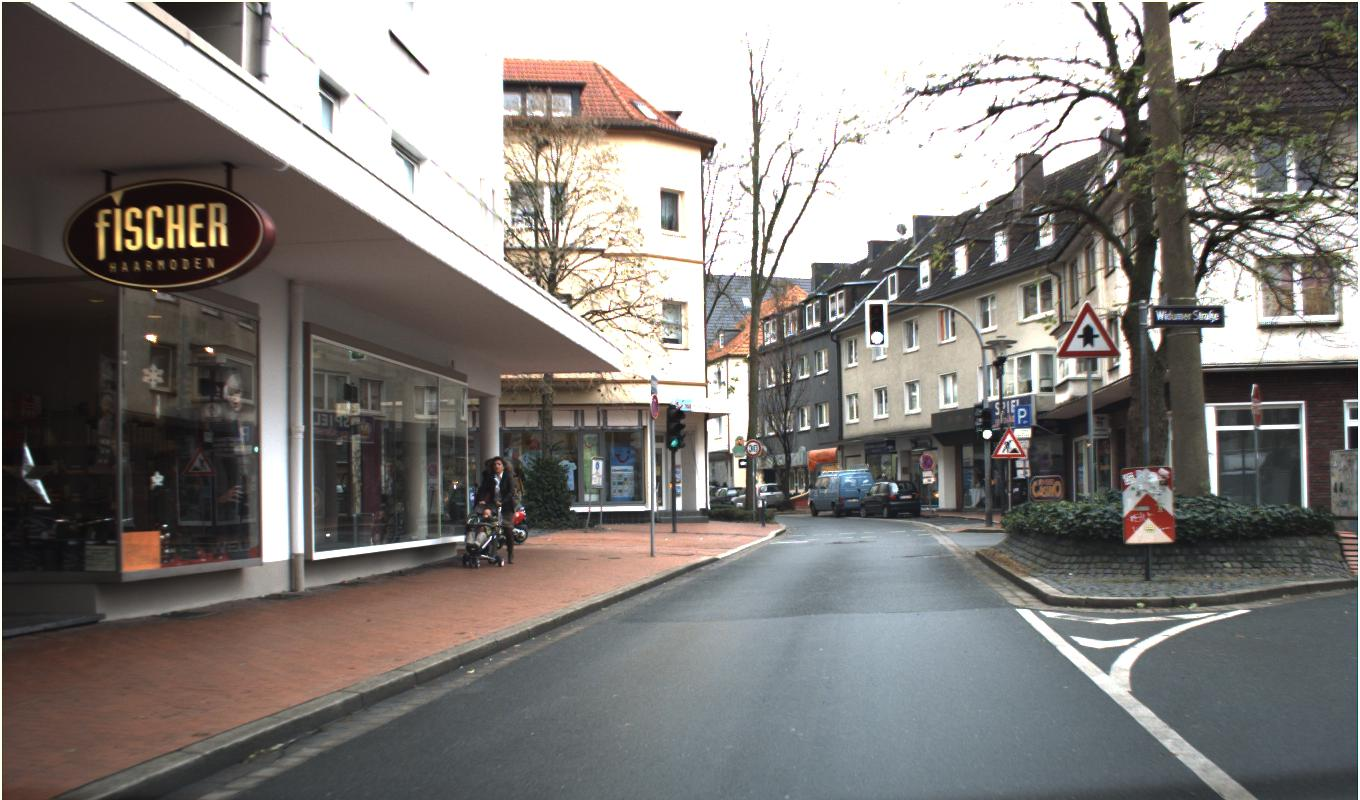danger: (1054, 297, 1122, 358), (990, 425, 1028, 459)
prohibitory: (744, 438, 762, 458)
